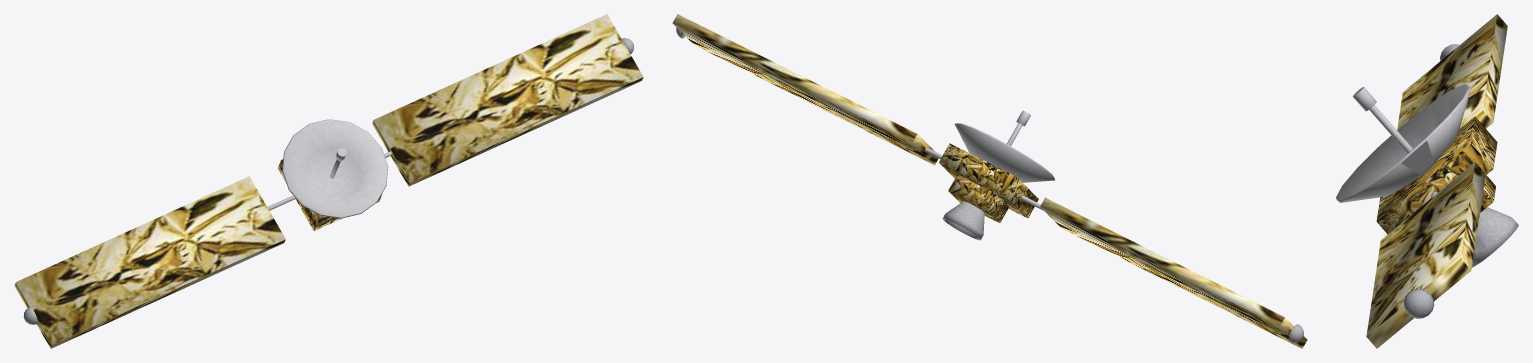
File: Satellite.obj
3 views of the same model, side by side, from view 1: azimuth 30°, elevation 25°; view 2: azimuth 150°, elevation 25°; view 3: azimuth 270°, elevation 25° (orthographic). The views are drawn at different scales.
Parts seen in each view (by area): view 1: satellite_sep4_default2, satellite_sep3_default2, satellite_sep12_default2, satellite_sep13_default2; view 2: satellite_sep4_default2, satellite_sep3_default2, satellite_sep13_default2, satellite_sep12_default2, satellite_sep2_default2, satellite_default2; view 3: satellite_sep4_default2, satellite_sep12_default2, satellite_sep3_default2, satellite_sep13_default2, satellite_default2, satellite_sep9_default2, satellite_sep7_default2, satellite_sep2_default2, satellite_sep6_default2.
Boxes of the visible parts, x1,y1,x2,y2 form: satellite_sep4_default2: (372,14,643,186); satellite_sep3_default2: (14,176,285,348); satellite_sep12_default2: (282,119,388,218); satellite_sep13_default2: (277,159,382,231); satellite_sep4_default2: (672,14,938,165); satellite_sep3_default2: (1040,197,1307,348); satellite_sep13_default2: (939,143,1038,218); satellite_sep12_default2: (954,123,1054,182); satellite_sep2_default2: (948,174,1008,222); satellite_default2: (942,201,984,240); satellite_sep4_default2: (1366,162,1485,348); satellite_sep12_default2: (1336,84,1471,202); satellite_sep3_default2: (1397,14,1507,129); satellite_sep13_default2: (1376,116,1497,234); satellite_default2: (1472,207,1518,267); satellite_sep9_default2: (1403,288,1434,318); satellite_sep7_default2: (1369,105,1412,153); satellite_sep2_default2: (1480,175,1495,212); satellite_sep6_default2: (1353,87,1376,111).
Bounding box in the file's own units: 1.68 × 0.4969 × 0.2704.
Materials: 3 (3 with a texture image).
